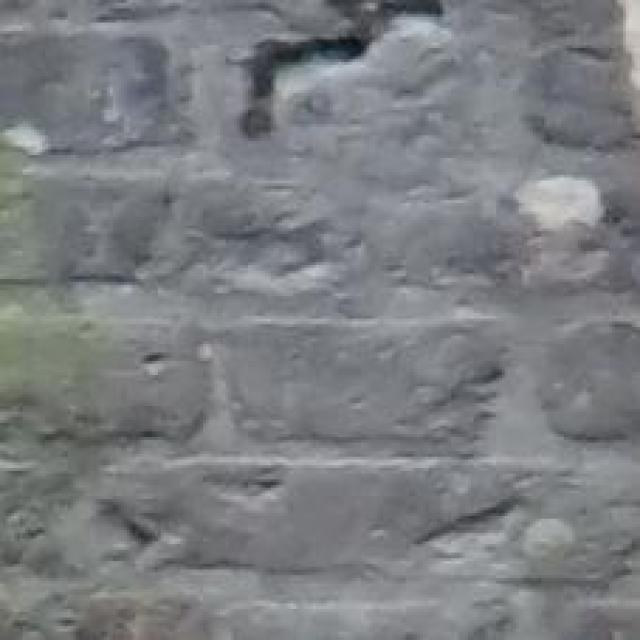Crack: (208, 0, 452, 244)
